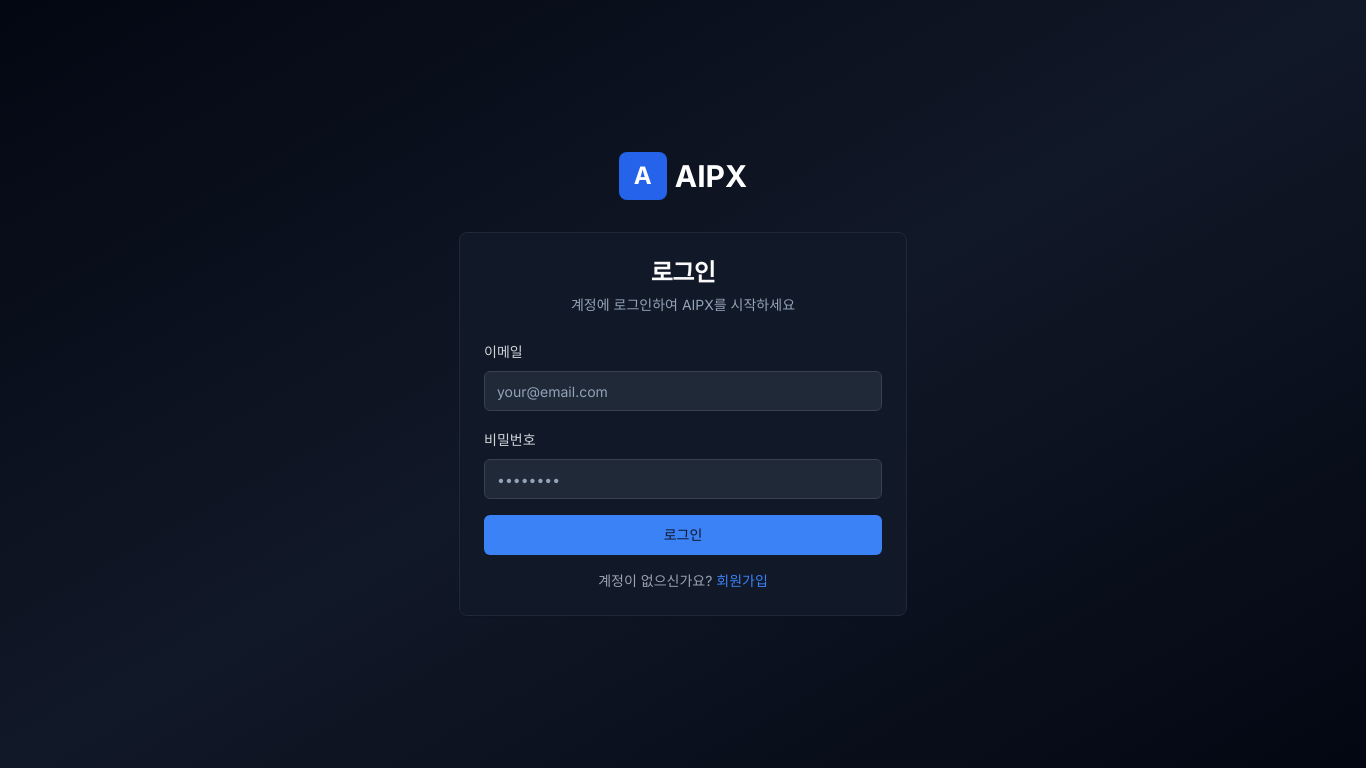
Test: LoginPage › shows loading state during submission
Type "test@example.com" into the field named "이메일 주소" at (683, 391), box [484,371,882,411]
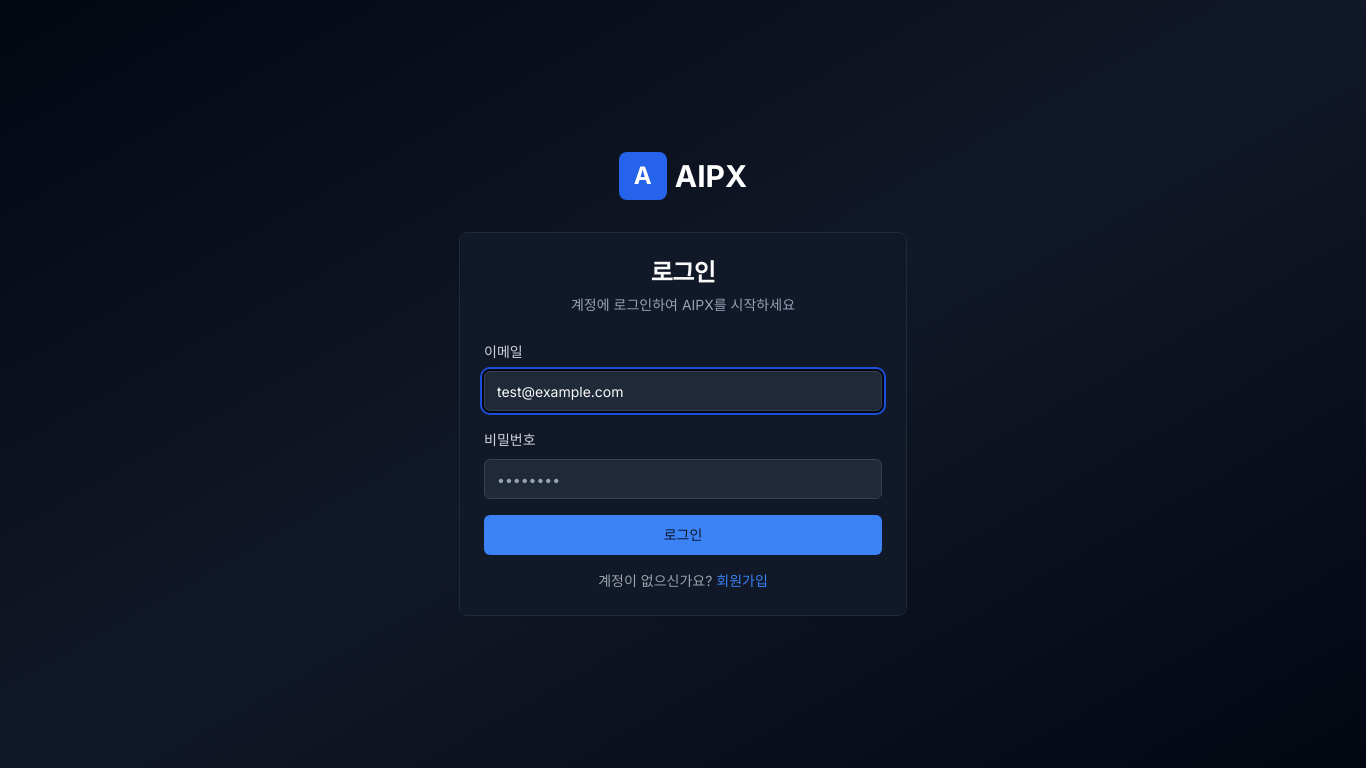
Type "password123" into the password field labelled "비밀번호" at (683, 479), box [484,459,882,499]
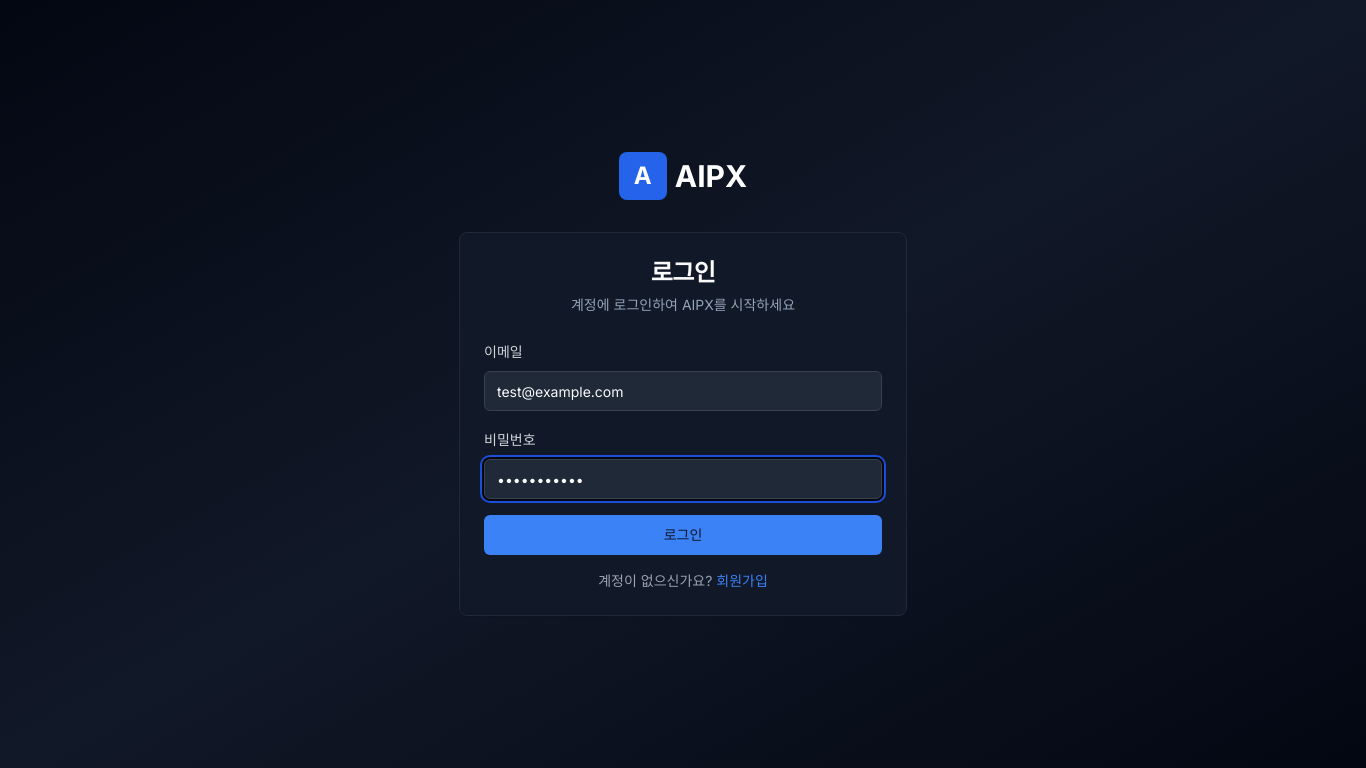
Click the button "로그인" at (683, 535), box [484,515,882,555]
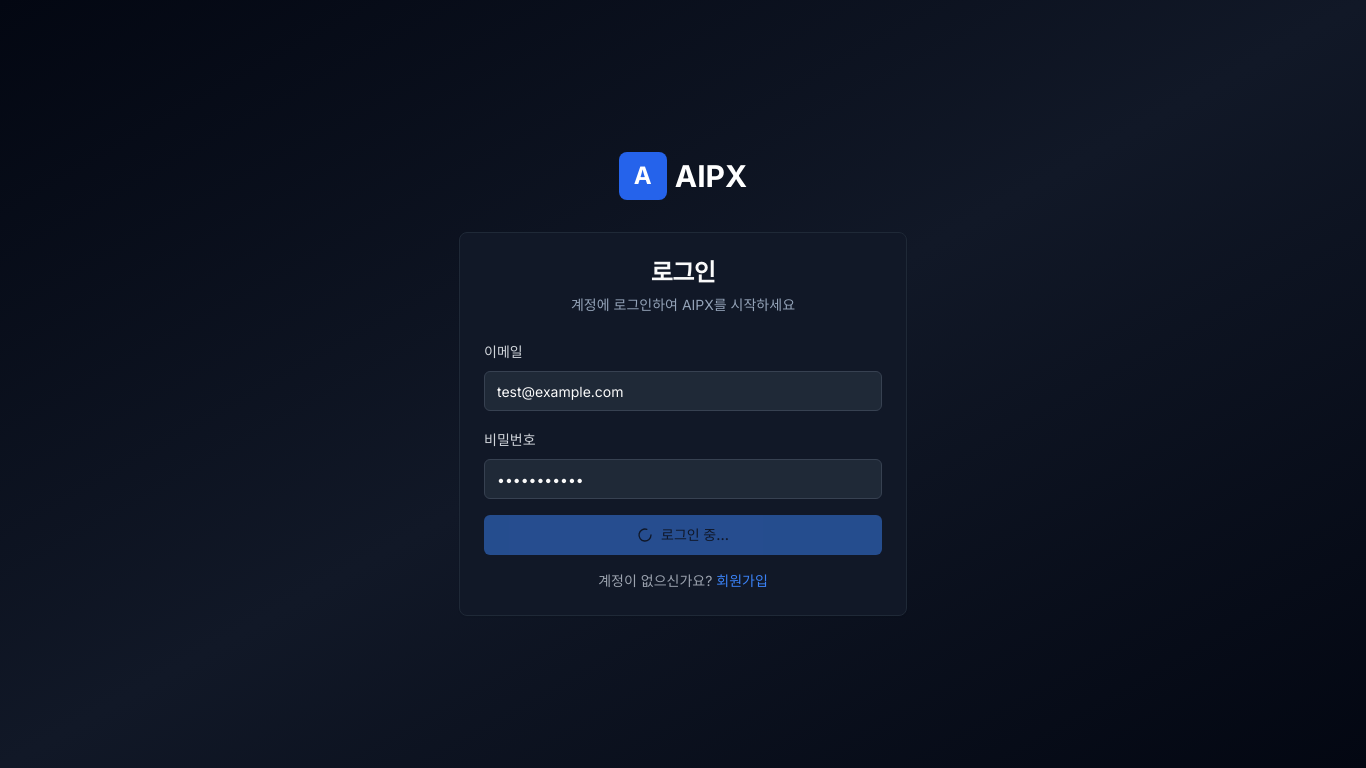
expect the button "로그인 중..." is disabled: met, box [484,515,882,555]
